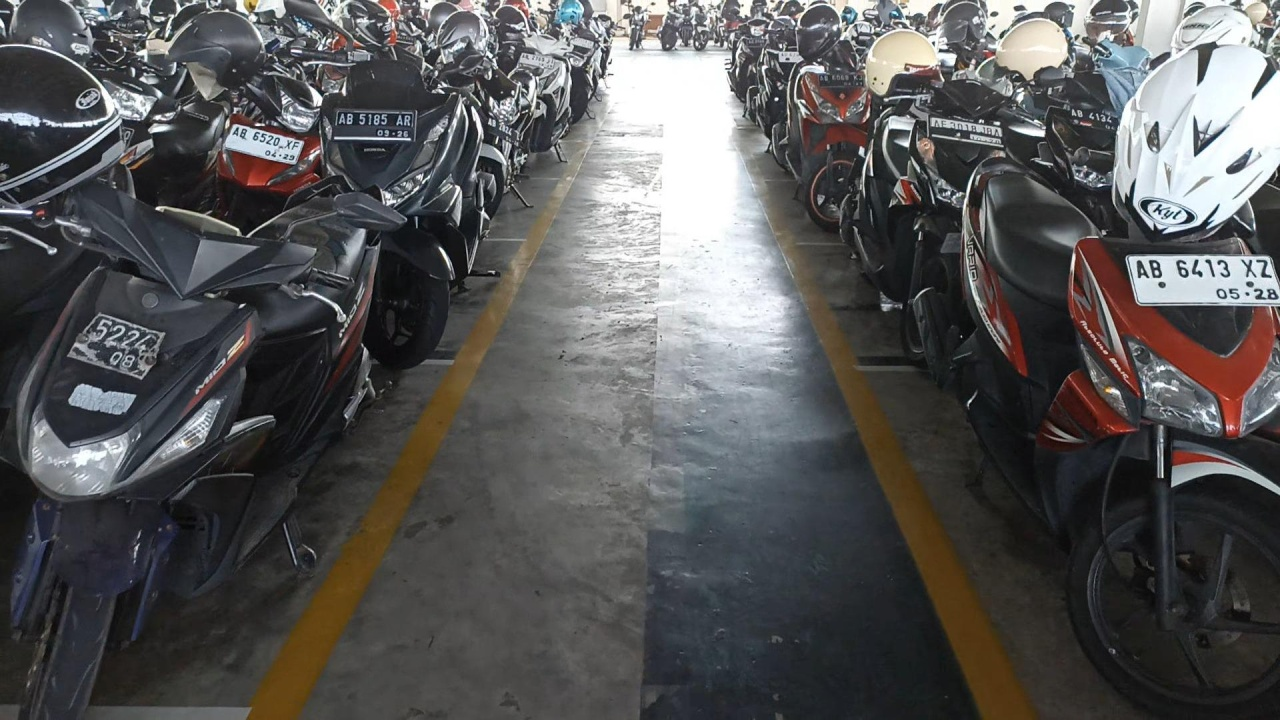plate: (1125, 254, 1280, 305), (69, 314, 165, 379), (225, 124, 304, 165), (333, 109, 415, 142), (929, 115, 1005, 148)
